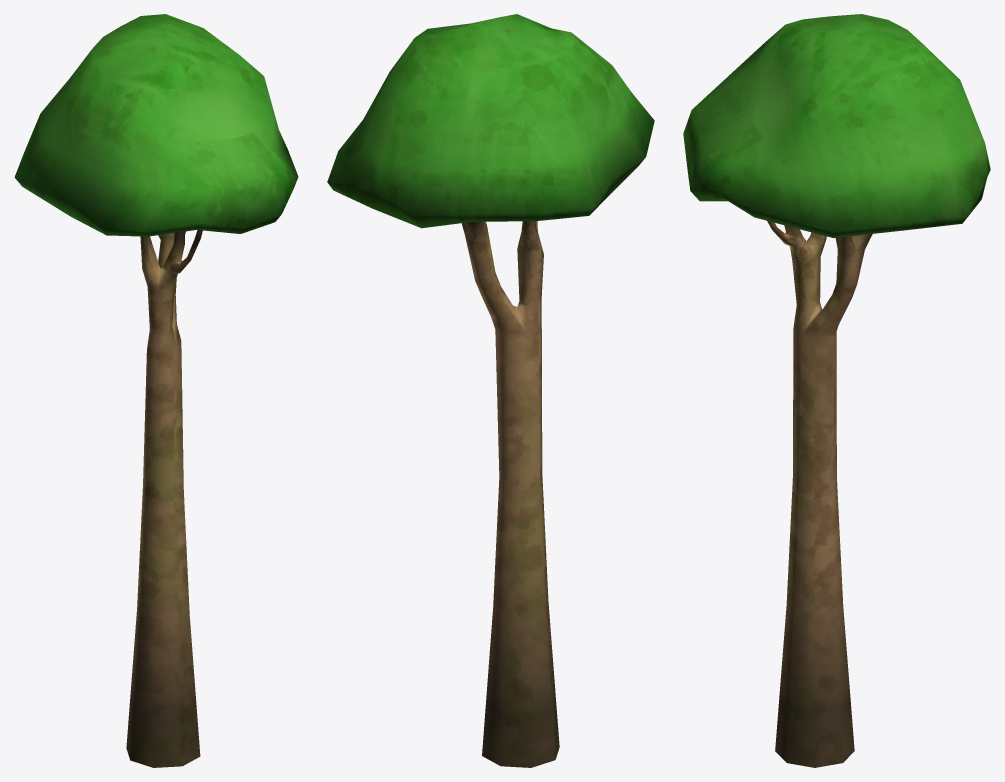
Rendered from art_3D model_Environment_PohonMahoni.fbx.
The picture shows the model from 3 angles, left to right: view 1: azimuth 30°, elevation 25°; view 2: azimuth 150°, elevation 25°; view 3: azimuth 270°, elevation 25°; orthographic projection. The views are drawn at different scales.
Visible parts, largest first — view 1: mahorny; view 2: mahorny; view 3: mahorny.
Part boxes in pixels (<box>): mahorny: <box>14,14,298,767</box>; mahorny: <box>327,14,654,767</box>; mahorny: <box>683,14,990,767</box>.
Size of the model in its own units: 279 by 773 by 295.
Materials: 2 (2 with a texture image).
